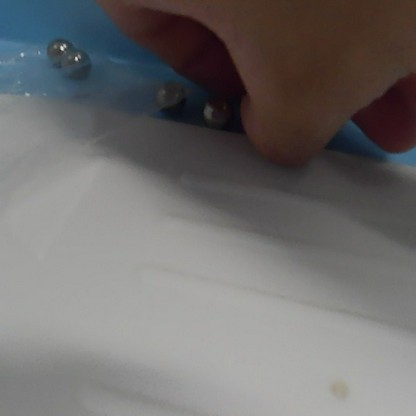ironball: (147, 75, 187, 111), (196, 93, 233, 131), (60, 48, 94, 77), (39, 36, 76, 60)
